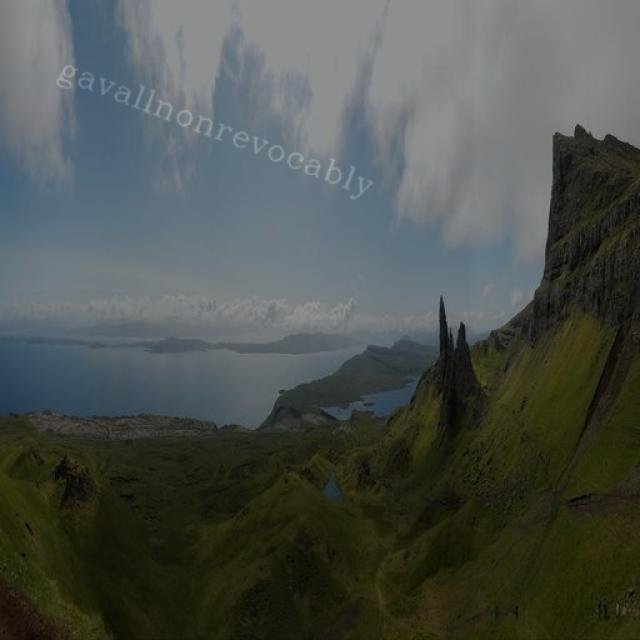watermark: (49, 52, 392, 202)
